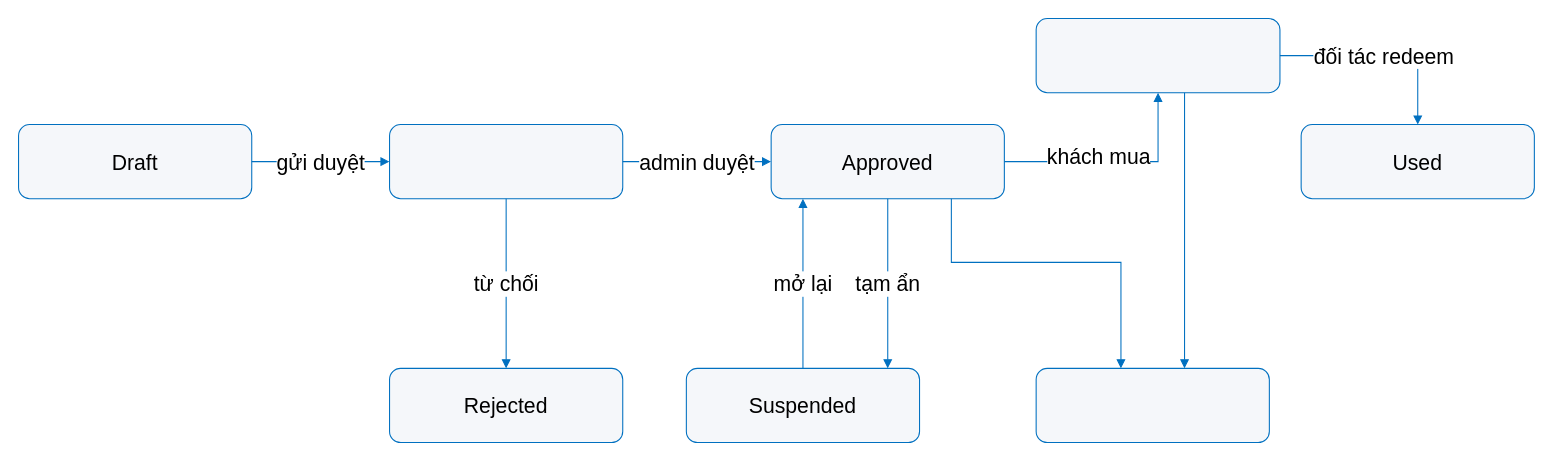
This 1553x461 diagram has some shape labels left out. Each missing label, with the centre of its shape:
"Expired" goes at (1152,405).
"Pending" goes at (505,161).
"Sold / Issued E-Voucher" goes at (1157,55).
